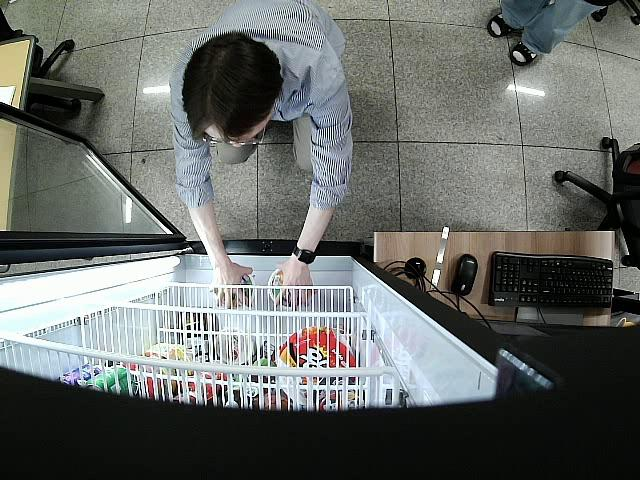00_hand: (273, 264, 317, 309), (209, 265, 250, 306)
09_yukGaeJang: (266, 274, 305, 309), (222, 276, 255, 309)
